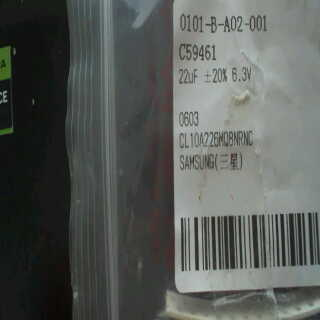22uF: (175, 65, 200, 87)
